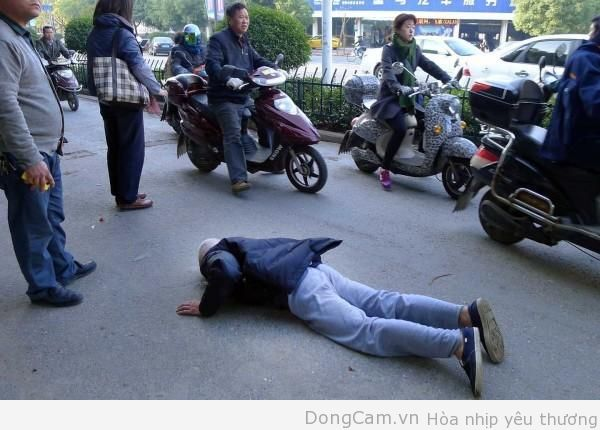collapsed: (123, 209, 595, 403)
